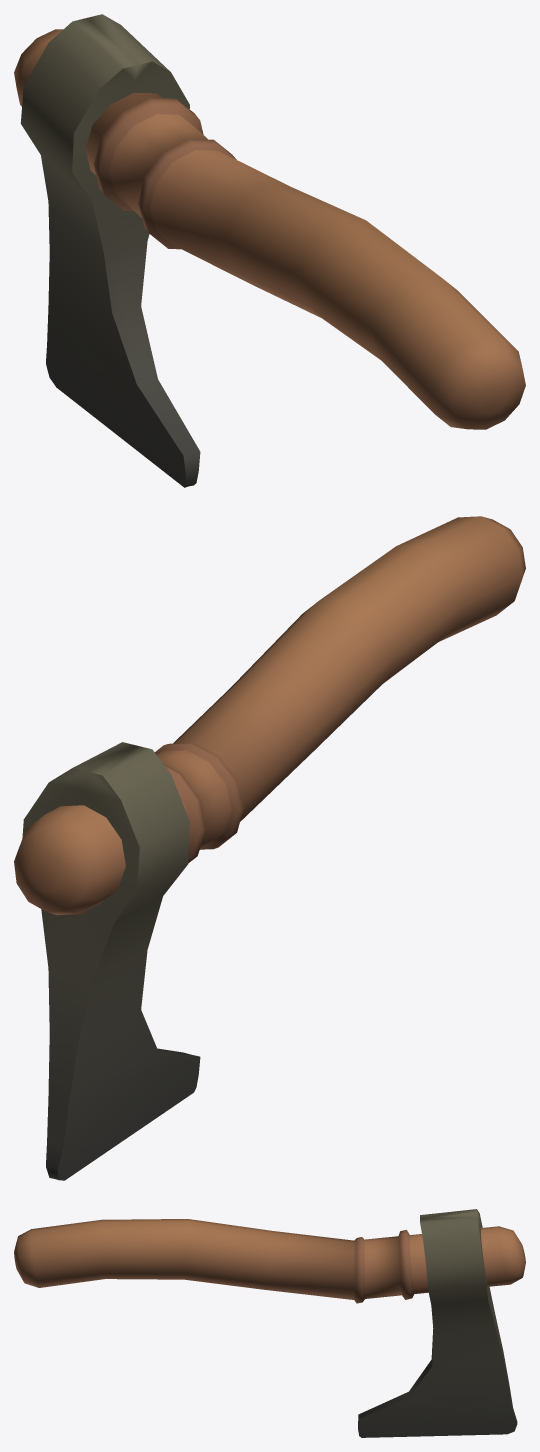
Rendered from Axe.fbx.
3 renders of one model, top to bottom at view 1: azimuth 30°, elevation 25°; view 2: azimuth 150°, elevation 25°; view 3: azimuth 270°, elevation 25°, orthographic. The views are drawn at different scales.
Parts seen in each view (by area): view 1: Axe; view 2: Axe; view 3: Axe.
Part boxes in pixels (bbox=[...]): Axe: bbox=[14, 14, 525, 487]; Axe: bbox=[14, 516, 525, 1180]; Axe: bbox=[14, 1209, 525, 1437].
Size of the model in its own units: 5.43 by 17.63 by 36.61.
